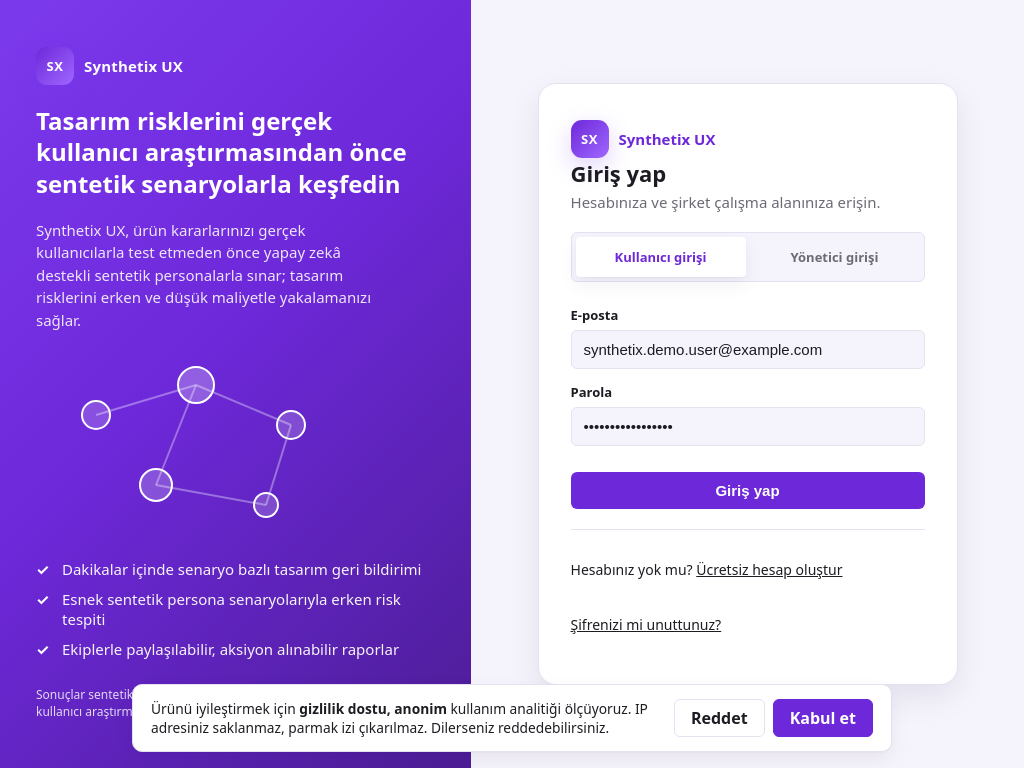
Scenario: Kimlik dogrulama route guard ve akislari › yanlis parola ile giriste genel bir hata mesaji gosterir ve yonlendirmez
Check: the heading "Giriş yap" is shown, box [570, 158, 666, 188]
Replace the text in the field labelled "E-posta" with "user@example.com" at (748, 350), box [570, 330, 924, 369]
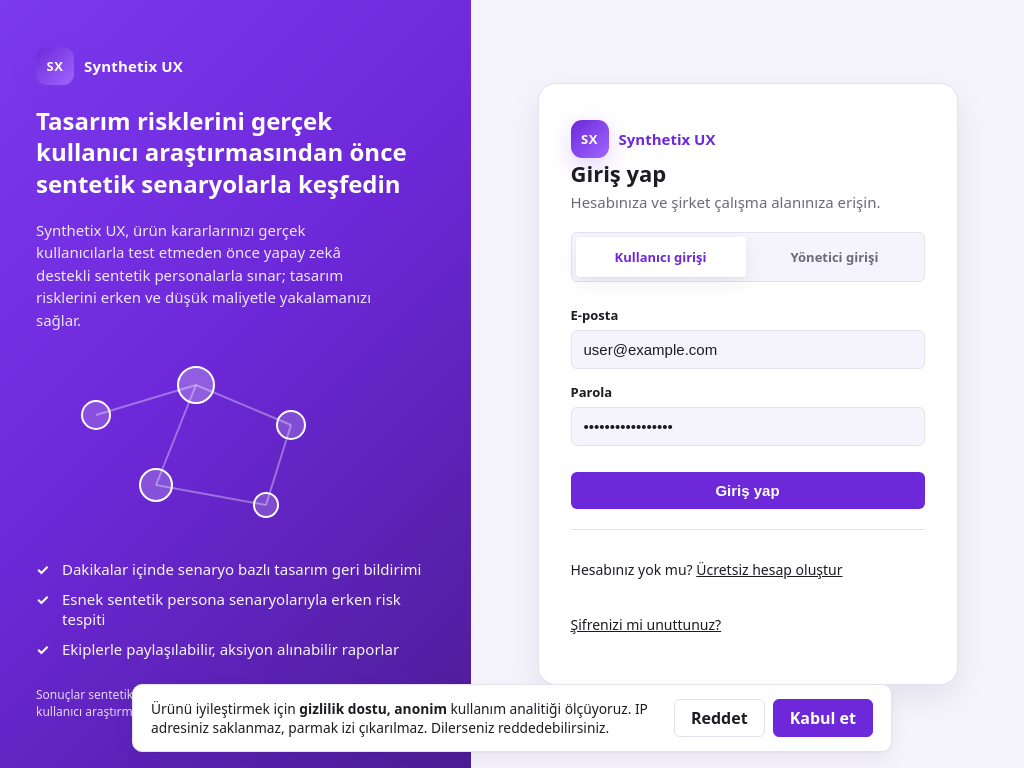
Type "wrong-password" into the password field labelled "Parola" at (748, 426), box [570, 407, 924, 446]
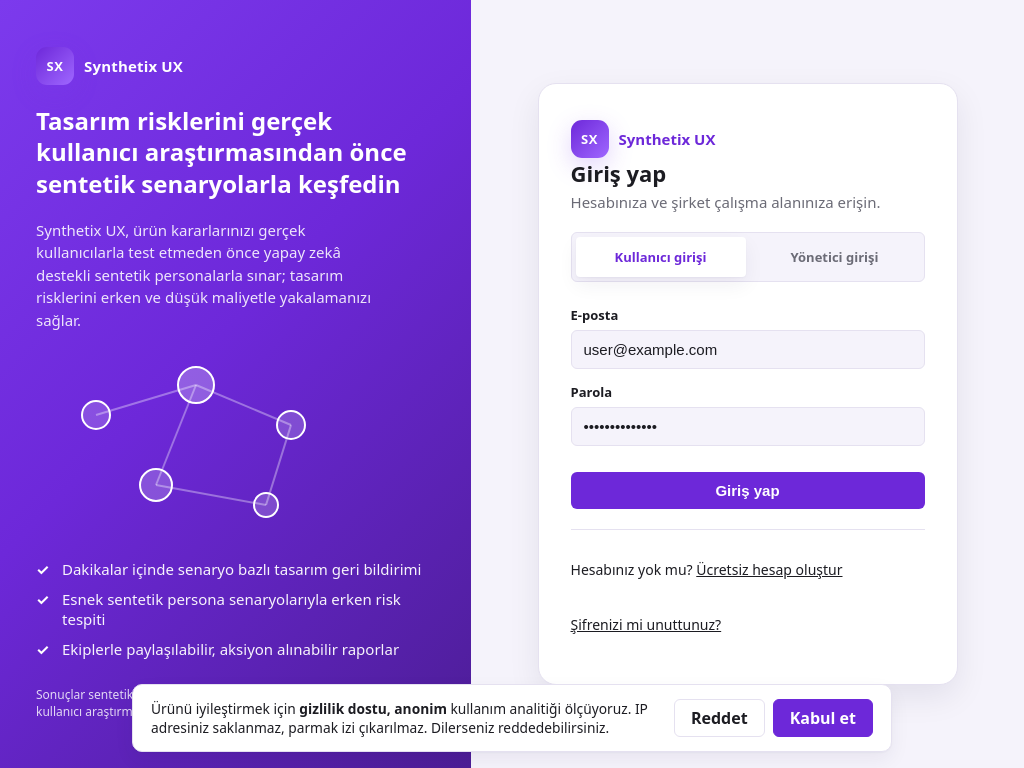
Click the button "Giriş yap" at (748, 490), box [570, 472, 924, 509]
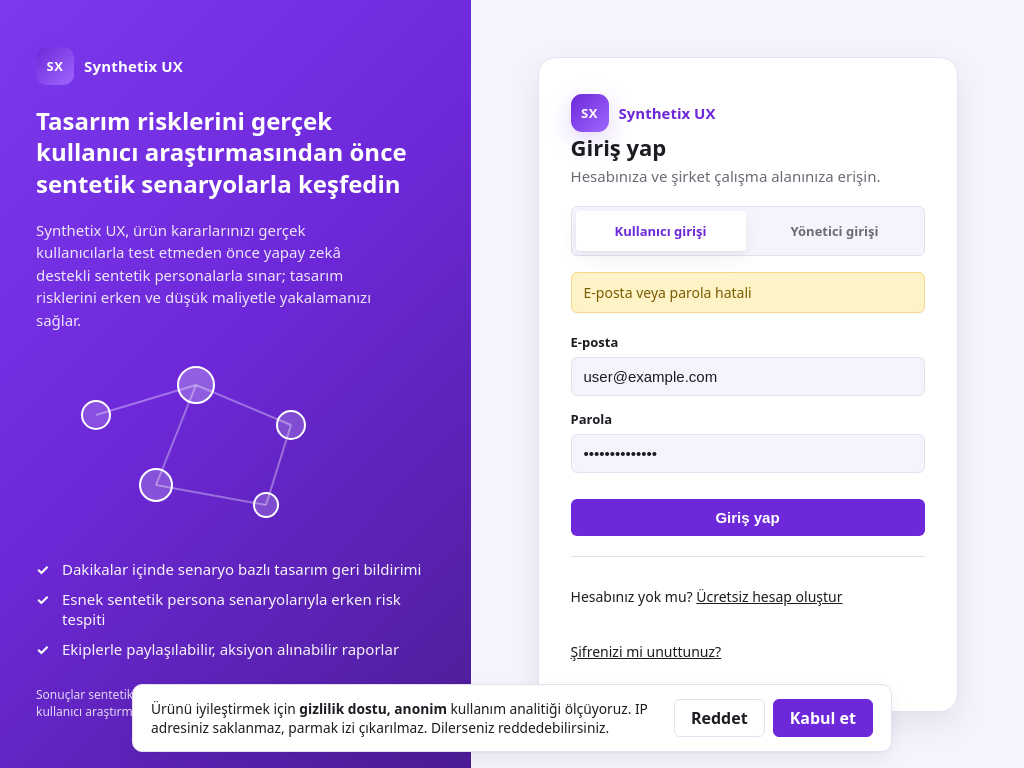
Check: the heading "Giriş yap" is shown, box [570, 132, 666, 162]
Check: the message reads "E-posta veya parola hatali", box [584, 282, 752, 302]
